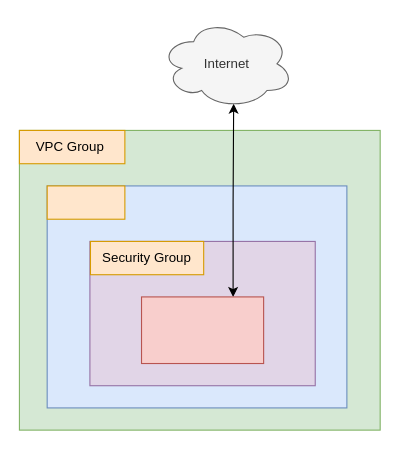
This 400x450 diagram has some shape labels left out. Each missing label, with the centre of its shape:
"Ubuntu 18 ECS" belongs at pixel 202 330.
"VSwitch" belongs at pixel 85 202.
